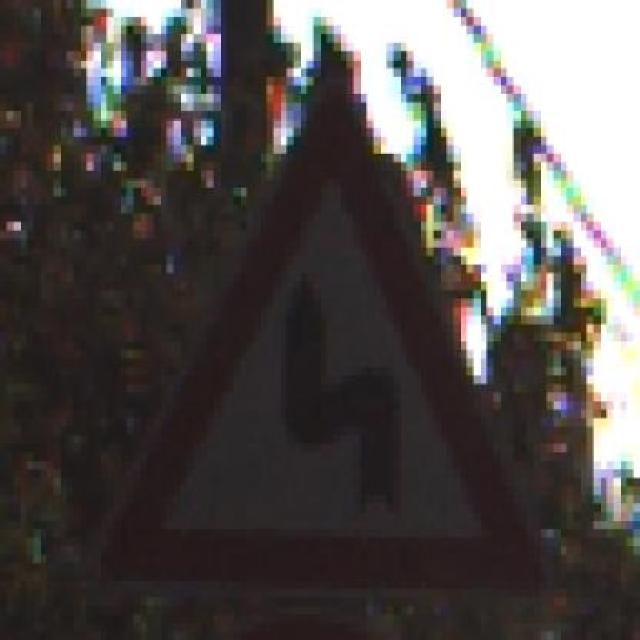Left Zig Zag Traffic: (86, 51, 554, 589)
